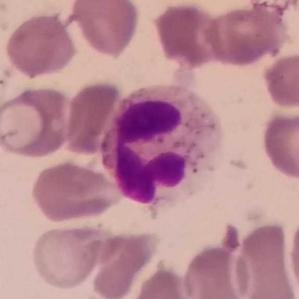Neutrophil: (100, 87, 228, 213)
RBC: (28, 158, 122, 225), (202, 1, 292, 69), (0, 83, 77, 160), (29, 220, 106, 292), (85, 227, 160, 299), (2, 10, 78, 81), (231, 220, 298, 299), (151, 1, 223, 70), (62, 78, 123, 157), (67, 0, 143, 59), (179, 238, 251, 299), (258, 101, 299, 183), (128, 262, 198, 299), (260, 49, 299, 111), (286, 207, 299, 298)
